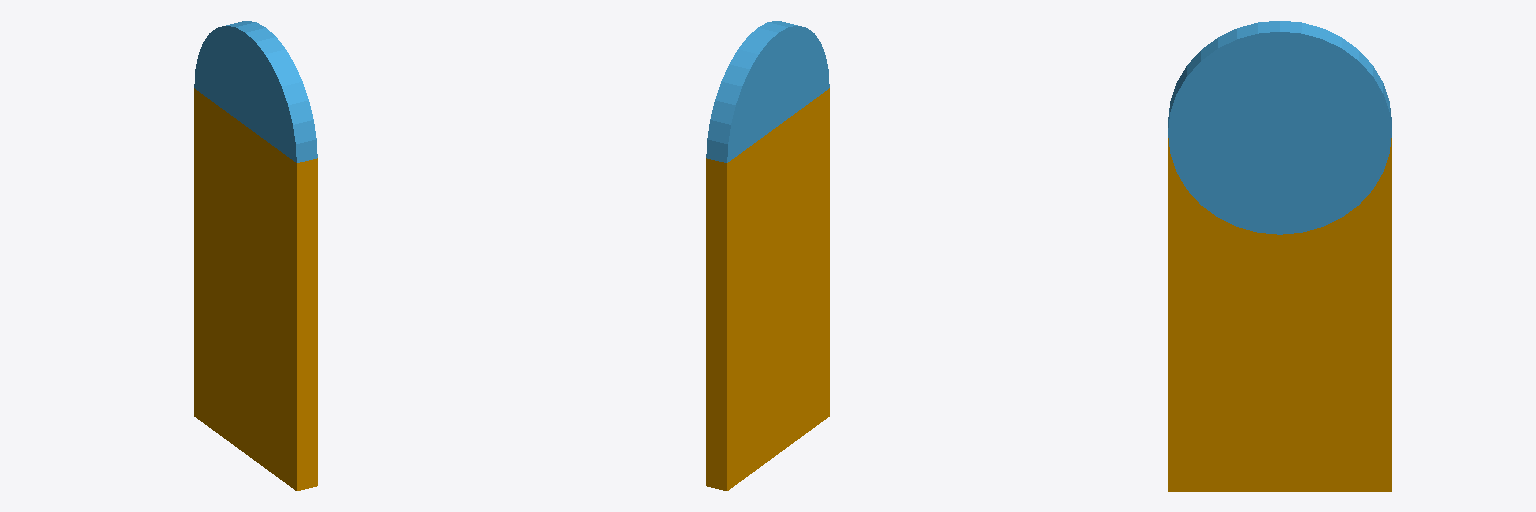
The robot description file, URDF, robot "card/card":
<?xml version="1.0"?>
<robot name="card/card">
 <link name="base">
  <inertial>
    <mass value="1"/>
    <inertia ixx="0.753333333333" ixy="0" ixz="0" iyy="0.244166666667" iyz="0" izz="0.990833333333"/>
  </inertial>
  <visual>
    <origin rpy="0 0 0" xyz="0 0 0"/>
    <geometry>
      <box size="0.2 1.7 3.0"/>
    </geometry>
  </visual>
  <collision>
    <origin rpy="0 0 0" xyz="0 0 0"/>
    <geometry>
      <box size="0.2 1.7 3.0"/>
    </geometry>
  </collision>
 </link>

 <link name="head">
  <inertial>
    <mass value="1"/>
    <inertia ixx="0.183958333333" ixy="0" ixz="0" iyy="0.183958333333" iyz="0" izz="0.180625"/>
  </inertial>
  <visual>
    <origin rpy="0 1.57 0" xyz="0 0 1.5"/>
    <geometry>
      <cylinder length="0.2" radius="0.85"/>
    </geometry>
  </visual>
  <collision>
    <origin rpy="0 1.57 0" xyz="0 0 1.5"/>
    <geometry>
      <cylinder length="0.2" radius="0.85"/>
    </geometry>
  </collision>
 </link>

<joint name="joint_head_base" type="fixed">
  <origin rpy="0 0 0" xyz="0 0 0"/>
  <parent link="head"/>
  <child link="base"/>
</joint>

  <klampt package_root="../../.." default_acc_max="4" >
  </klampt>
</robot>

--- What the picture shows (computed from the rendered views, not written in the file) ---
The picture shows the robot from 3 angles, left to right: view 1: azimuth 30°, elevation 25°; view 2: azimuth 150°, elevation 25°; view 3: azimuth 270°, elevation 25°; orthographic projection.
Model card/card with 2 links and 1 joints (1 fixed), rooted at head, posed every joint at zero.
Links seen in each view (by area): view 1: base, head; view 2: base, head; view 3: base, head.
Link boxes in pixels (left/top/right/bottom): base: left=194, top=88, right=317, bottom=490; head: left=194, top=21, right=317, bottom=162; base: left=706, top=88, right=829, bottom=490; head: left=706, top=21, right=829, bottom=162; base: left=1168, top=138, right=1391, bottom=491; head: left=1168, top=21, right=1391, bottom=234.
Bounding box of the posed robot: 0.2014 × 1.7 × 3.85 m (x, y, z).
Geometry: primitives only (box / cylinder / sphere), no mesh files.